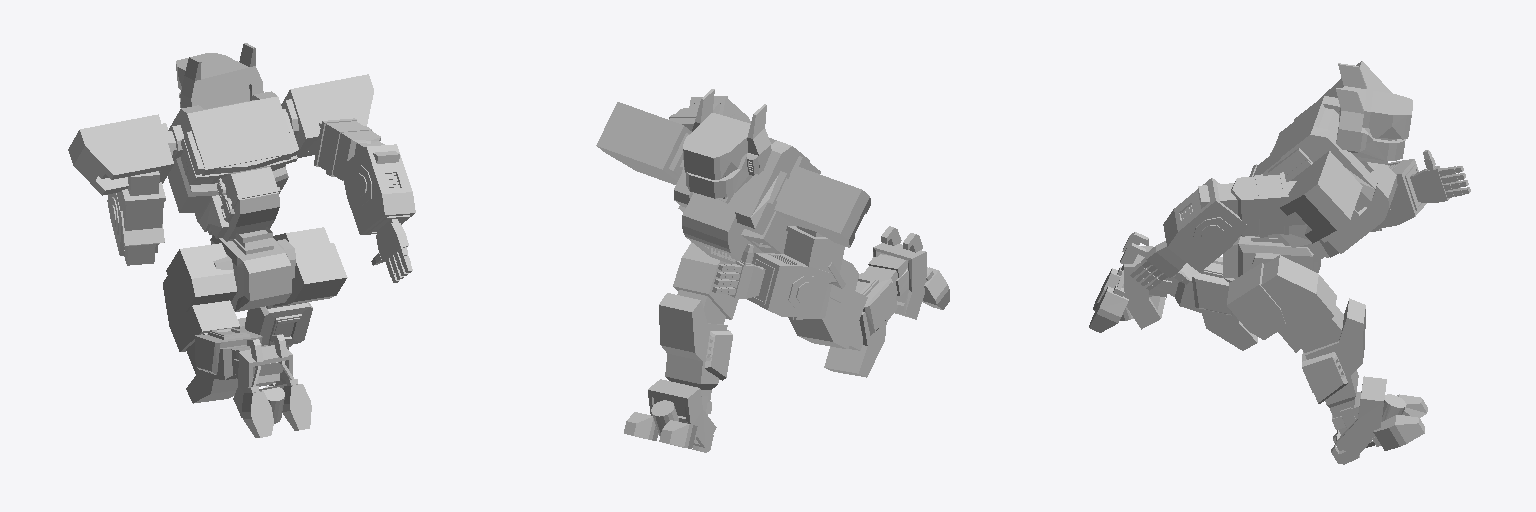
Rendered from walk4.obj.
The picture shows the model from 3 angles: view 1: azimuth 30°, elevation 25°; view 2: azimuth 150°, elevation 25°; view 3: azimuth 270°, elevation 25°; orthographic projection.
Visible parts, largest first — view 1: R_UpperShoulder_Cube.030; view 2: R_UpperShoulder_Cube.030; view 3: R_UpperShoulder_Cube.030.
Boxes of the visible parts, box(x1,y1,x2,y2) form: R_UpperShoulder_Cube.030: box(68, 43, 415, 437); R_UpperShoulder_Cube.030: box(596, 89, 949, 452); R_UpperShoulder_Cube.030: box(1089, 61, 1470, 464).
Bounding box in the file's own units: 1.43 × 1.81 × 1.74.